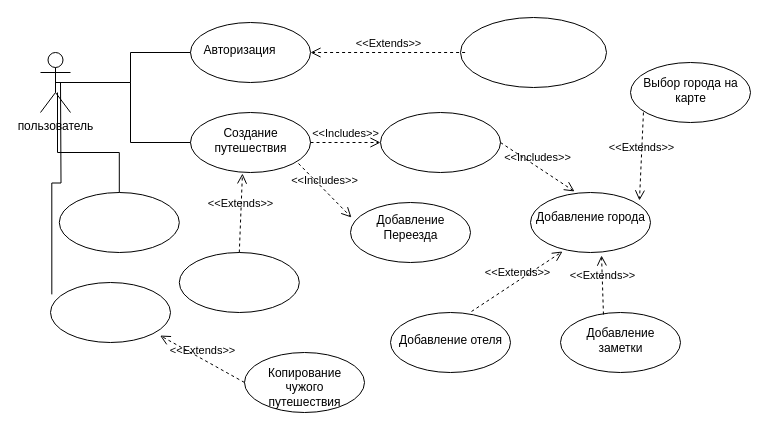
This 768x430 diagram has some shape labels left out. The box of each missing label's shape, as (x1, y1, x2, y2) in pixels:
Авторизация через соцсери: (460, 16, 606, 88)
Добавление страны: (380, 112, 500, 172)
Добавление траты: (178, 252, 299, 312)
Просмотр чужого путешествия: (50, 282, 170, 342)
Редактирование путешествия: (58, 192, 179, 252)
